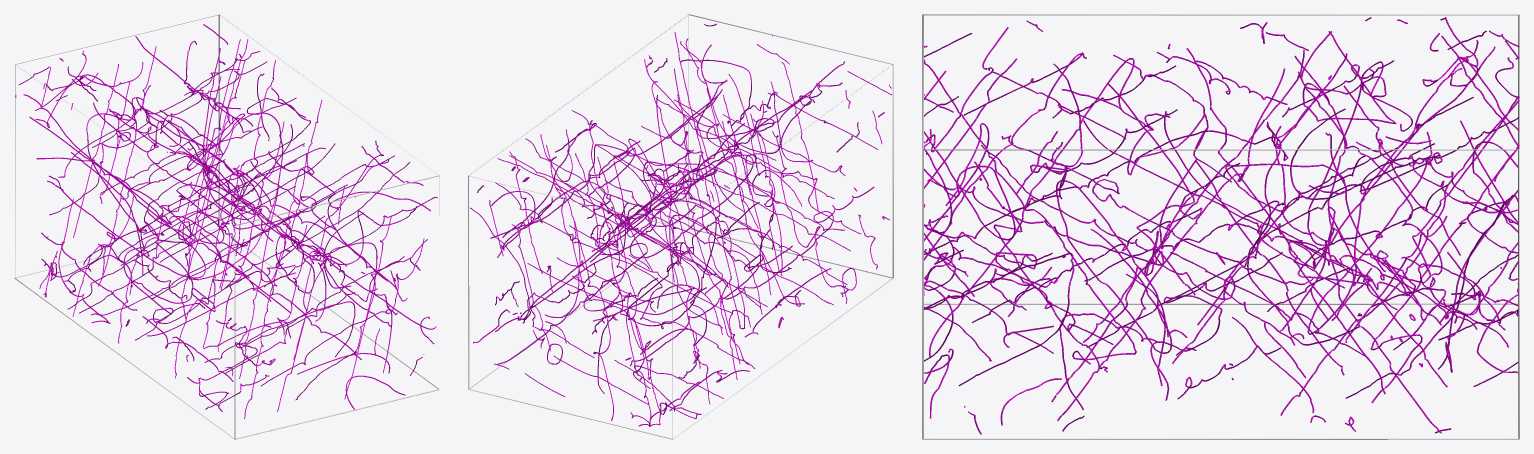
The picture shows the model from 3 angles, left to right: view 1: azimuth 30°, elevation 25°; view 2: azimuth 150°, elevation 25°; view 3: azimuth 270°, elevation 25°; orthographic projection. The views are drawn at different scales.
Visible parts, largest first — view 1: Shape_IndexedLineSet.001, Shape_IndexedLineSet; view 2: Shape_IndexedLineSet.001, Shape_IndexedLineSet; view 3: Shape_IndexedLineSet.001, Shape_IndexedLineSet.
Boxes of the visible parts, box(x1,y1,x2,y2) form: Shape_IndexedLineSet.001: box(15, 24, 437, 419); Shape_IndexedLineSet: box(14, 14, 439, 439); Shape_IndexedLineSet.001: box(470, 23, 891, 426); Shape_IndexedLineSet: box(468, 14, 893, 439); Shape_IndexedLineSet.001: box(924, 17, 1519, 434); Shape_IndexedLineSet: box(922, 14, 1519, 439).
Size of the model in its own units: 239 by 239 by 445.
